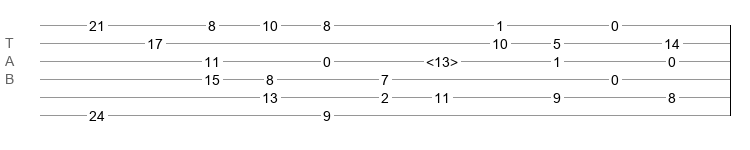0: (323, 54, 331, 64), (611, 18, 619, 28), (611, 72, 619, 82), (668, 54, 676, 64)
1: (496, 18, 504, 28), (553, 54, 561, 64)
10: (262, 18, 278, 28), (492, 36, 508, 46)
11: (204, 54, 220, 64), (434, 90, 450, 100)
13: (262, 90, 278, 100)
14: (664, 36, 680, 46)
15: (204, 72, 220, 82)
17: (147, 36, 163, 46)
2: (381, 90, 389, 100)
21: (89, 18, 105, 28)
24: (89, 108, 105, 118)
5: (553, 36, 561, 46)
7: (381, 72, 389, 82)
8: (208, 18, 216, 28), (266, 72, 274, 82), (323, 18, 331, 28), (668, 90, 676, 100)
9: (323, 108, 331, 118), (553, 90, 561, 100)
harmonic: (426, 54, 458, 64)
